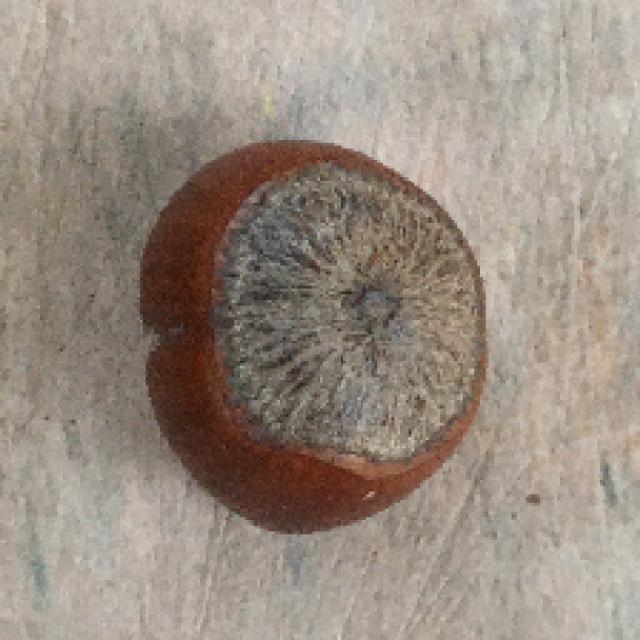damagedHazelnut: (128, 129, 498, 545)
